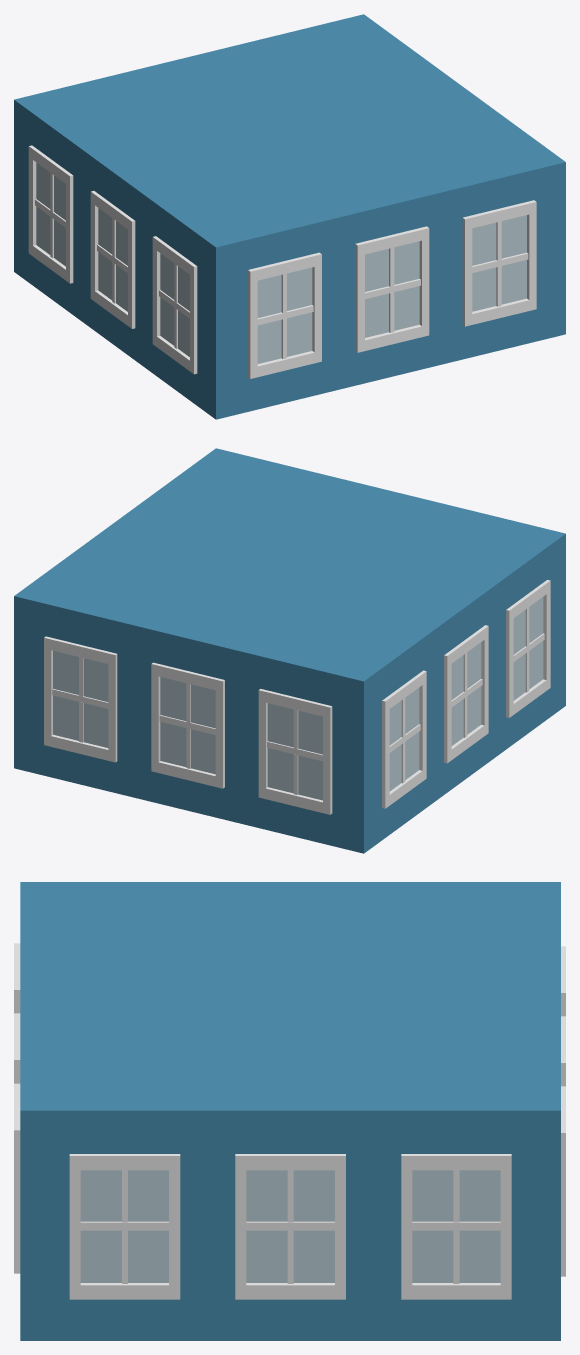
The model's file is good_building.glb.
The picture shows the model from 3 angles, top to bottom: view 1: azimuth 30°, elevation 25°; view 2: azimuth 150°, elevation 25°; view 3: azimuth 270°, elevation 25°; orthographic projection. The views are drawn at different scales.
Visible parts, largest first — view 1: Cube; view 2: Cube; view 3: Cube.
Boxes of the visible parts, x1,y1,x2,y2 form: Cube: [14, 14, 565, 419]; Cube: [14, 448, 565, 853]; Cube: [14, 882, 565, 1340].
Size of the model in its own units: 2.74 by 1.26 by 2.75.
Materials: 1 (1 with a texture image).
